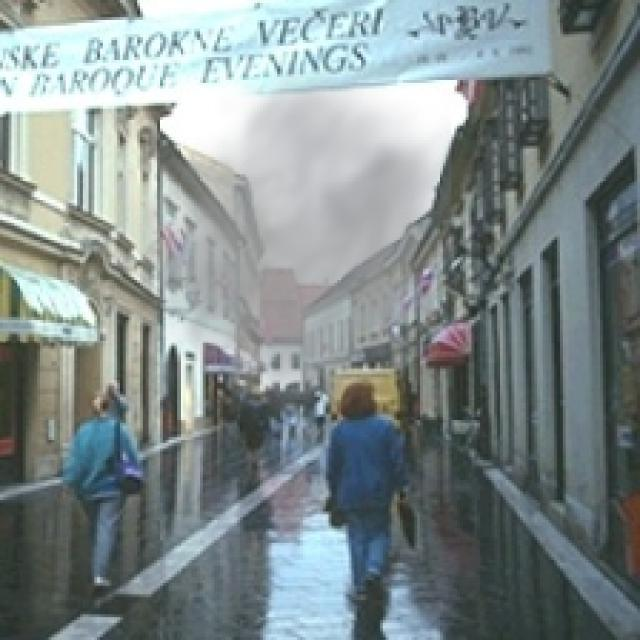Smoke: (102, 54, 452, 437)
